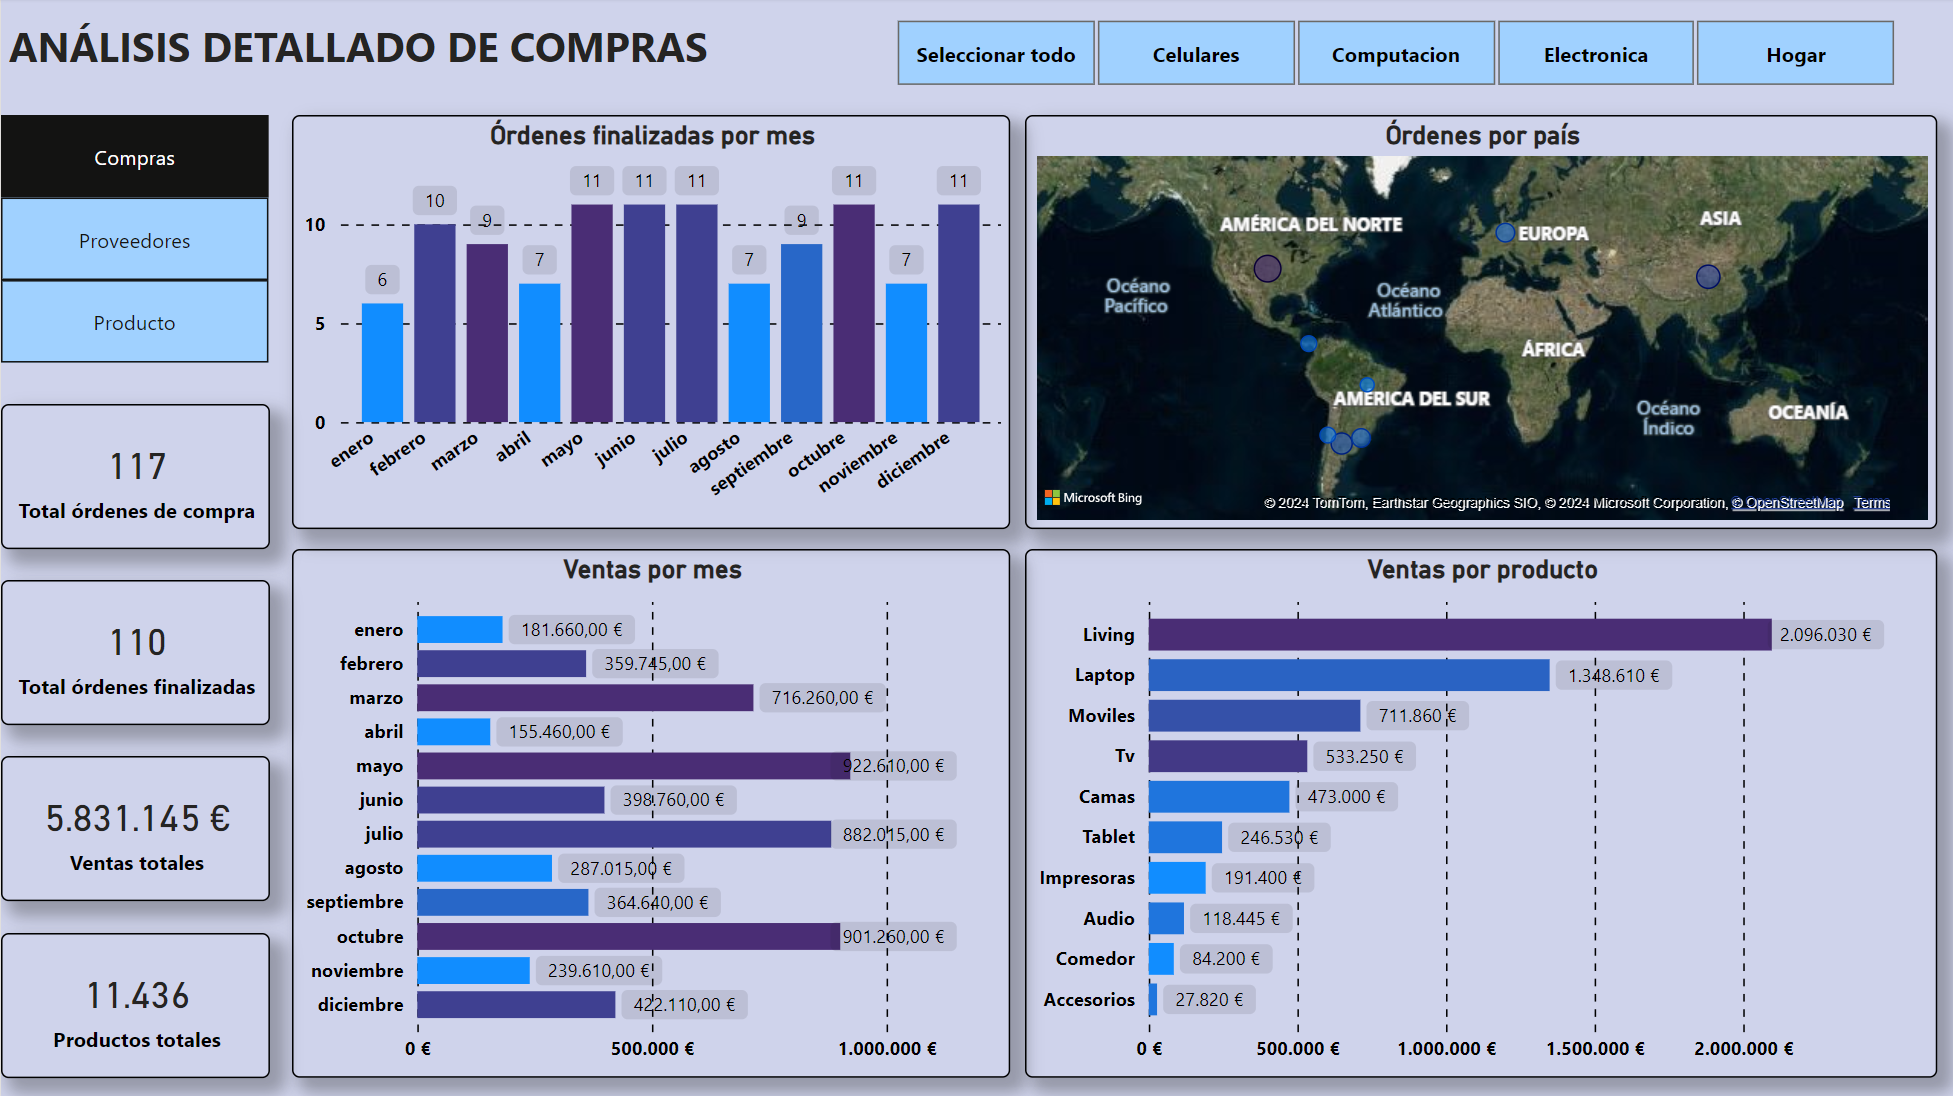

The dashboard page shown, as its layout file describes it:
{"tool":"powerbi","page":{"name":"Compras","canvas":[1280,720],"ordinal":0},"visuals":[{"type":"card","fields":{"Values":["Dax Medidas.Total ordenes de compra"]},"box":[0,265.4,175.9,95.1],"z":0},{"type":"card","fields":{"Values":["Dax Medidas.Total ordenes de compra finalizadas"]},"box":[0,380.8,175.9,95.1],"z":1000},{"type":"clusteredColumnChart","title":"Órdenes finalizadas por mes","fields":{"Y":["Dax Medidas.Total ordenes de compra finalizadas"],"Category":["Calendario.Date.Variación.Jerarquía de fechas.Mes"]},"box":[190.2,76.3,470,271],"z":2000},{"type":"card","fields":{"Values":["Dax Medidas.Total cantidad vendida"]},"box":[0,496.2,175.9,95.1],"z":3000},{"type":"card","fields":{"Values":["Sum(Ordenes.cant_prod_odc)"]},"box":[0,611.6,175.9,95.1],"z":4000},{"type":"clusteredBarChart","title":"Ventas por mes","fields":{"Y":["Dax Medidas.Total cantidad vendida"],"Category":["Calendario.Date.Variación.Jerarquía de fechas.Mes"]},"box":[190.2,360.6,470,346.2],"z":5000},{"type":"clusteredBarChart","title":"Ventas por producto","fields":{"Y":["Dax Medidas.Total cantidad vendida"],"Category":["Productos.Subcategoria"]},"box":[670.2,360.6,597.2,346.2],"z":6000},{"type":"map","title":"Órdenes por país","fields":{"Category":["Proveedores.org_pais"],"Size":["Dax Medidas.Total ordenes de compra"]},"box":[670.2,76.3,597.2,271],"z":7000},{"type":"pageNavigator","box":[0,76.3,175.9,164.8],"z":8000},{"type":"slicer","fields":{"Values":["Productos.Categoria"]},"box":[560.7,7.7,702.3,56.4],"z":9000},{"type":"textbox","box":[0,7.7,491.1,55.3],"z":10000}]}

Visuals, with their boxes in screenshot pixels (x1, y1, x2, y2), scaled from the page's 1280x720 canvas onto the 1953x1096 screenshot:
card - Dax Medidas.Total ordenes de compra: <region>0, 404, 268, 549</region>
card - Dax Medidas.Total ordenes de compra finalizadas: <region>0, 580, 268, 724</region>
"Órdenes finalizadas por mes" clusteredColumnChart: <region>290, 116, 1007, 529</region>
card - Dax Medidas.Total cantidad vendida: <region>0, 755, 268, 900</region>
card - Sum(Ordenes.cant_prod_odc): <region>0, 931, 268, 1076</region>
"Ventas por mes" clusteredBarChart: <region>290, 549, 1007, 1076</region>
"Ventas por producto" clusteredBarChart: <region>1023, 549, 1934, 1076</region>
"Órdenes por país" map: <region>1023, 116, 1934, 529</region>
pageNavigator: <region>0, 116, 268, 367</region>
slicer - Productos.Categoria: <region>856, 12, 1927, 98</region>
textbox: <region>0, 12, 749, 96</region>
